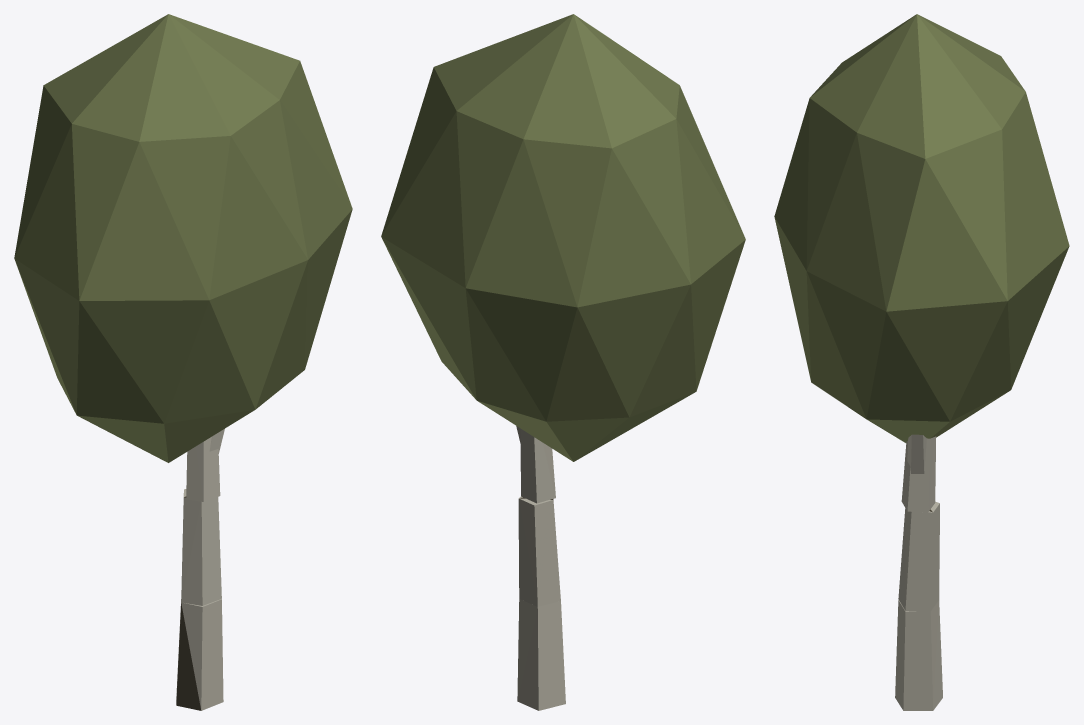
The picture shows the model from 3 angles, left to right: view 1: azimuth 30°, elevation 25°; view 2: azimuth 150°, elevation 25°; view 3: azimuth 270°, elevation 25°; orthographic projection. The views are drawn at different scales.
Visible parts, largest first — view 1: birch-previous; view 2: birch-previous; view 3: birch-previous.
Boxes of the visible parts, left/top/right/bottom form: birch-previous: left=14, top=14, right=352, bottom=710; birch-previous: left=381, top=14, right=745, bottom=710; birch-previous: left=774, top=14, right=1069, bottom=710.
Bounding box in the file's own units: 9.23 × 20.14 × 7.99.
